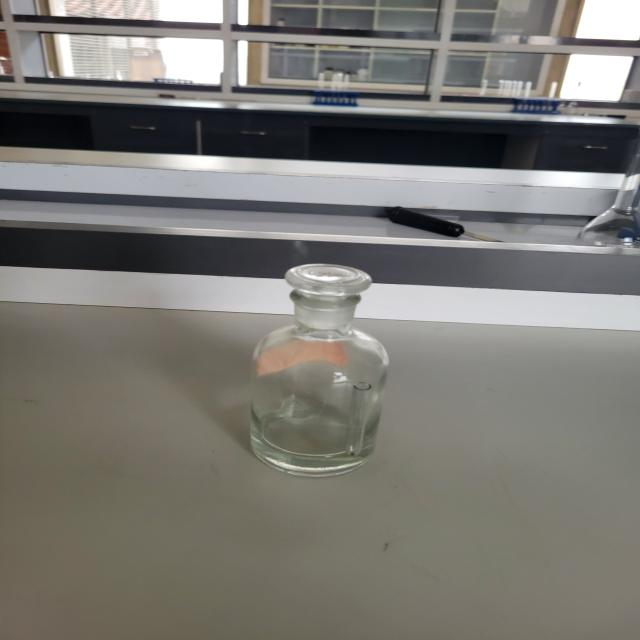Reagent_Bottle: (220, 226, 412, 487)
